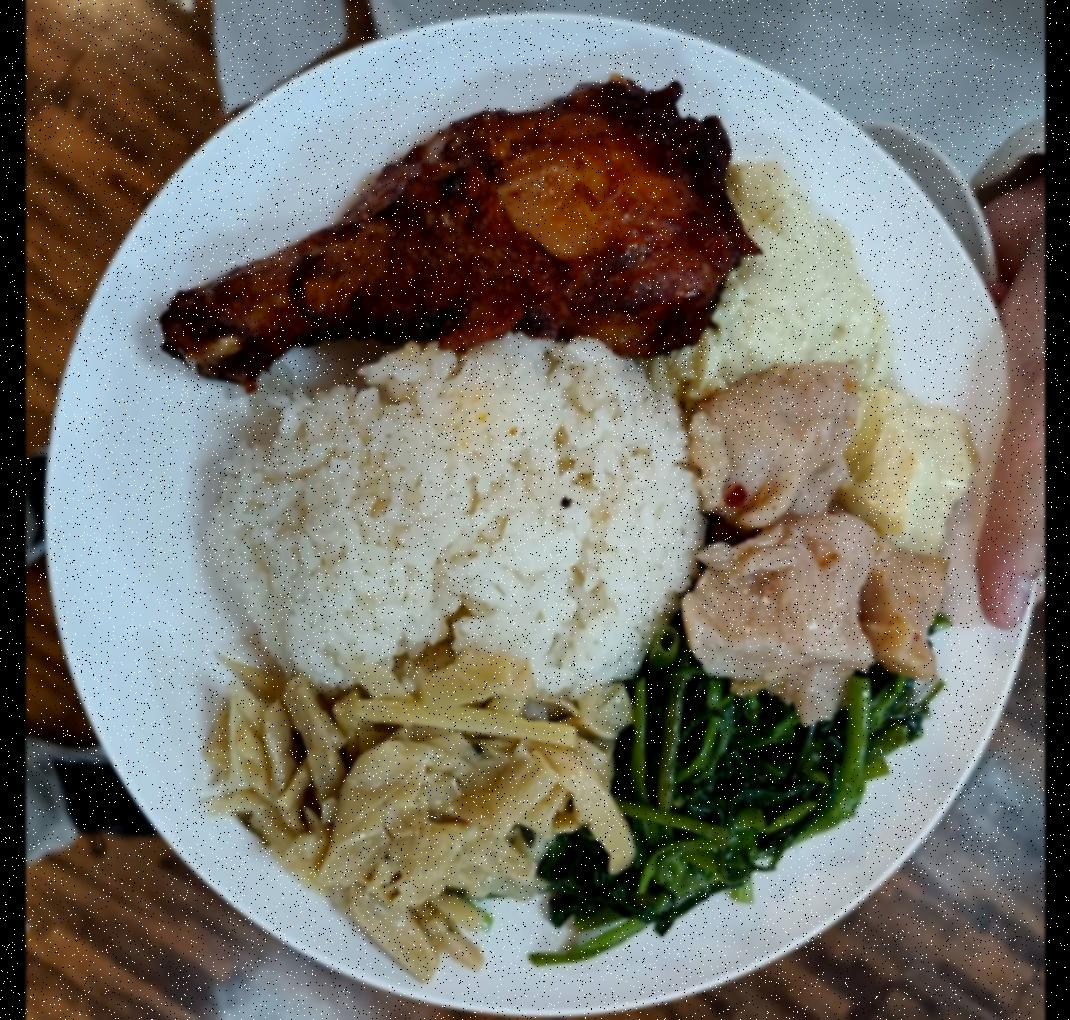honey grilled chicken leg: (147, 82, 752, 413)
plate: (37, 1, 1027, 1007)
scallion chicken: (686, 360, 942, 714)
side dish: (532, 620, 962, 958), (201, 650, 642, 974), (693, 141, 980, 514)
white rice: (203, 326, 712, 724)
